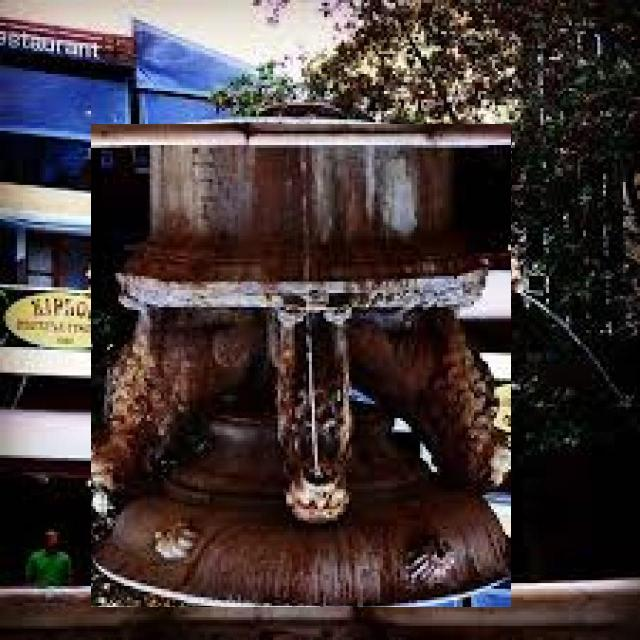Liontaria: (92, 125, 512, 608)
